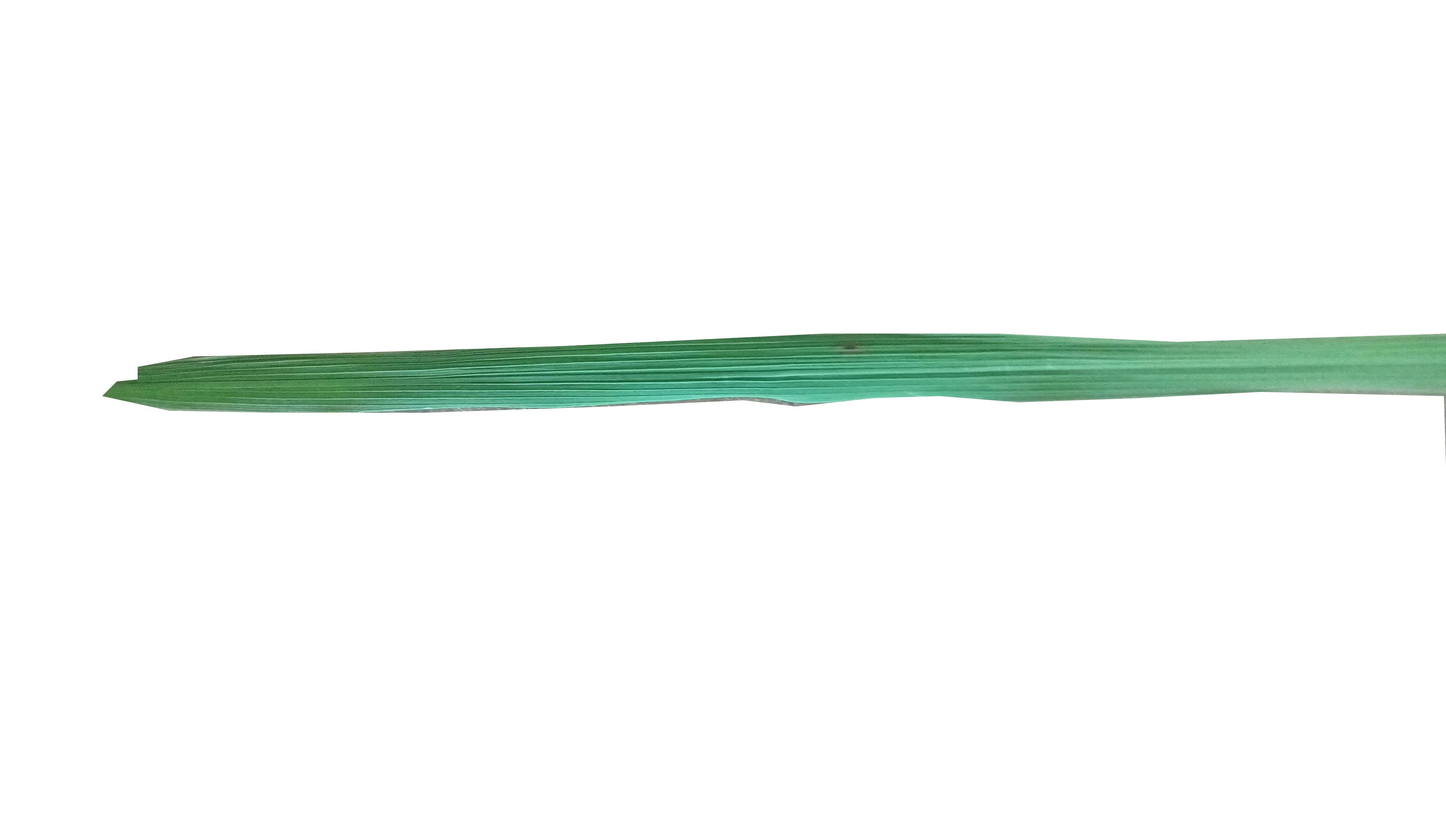Brown spot: (836, 340, 865, 358)
